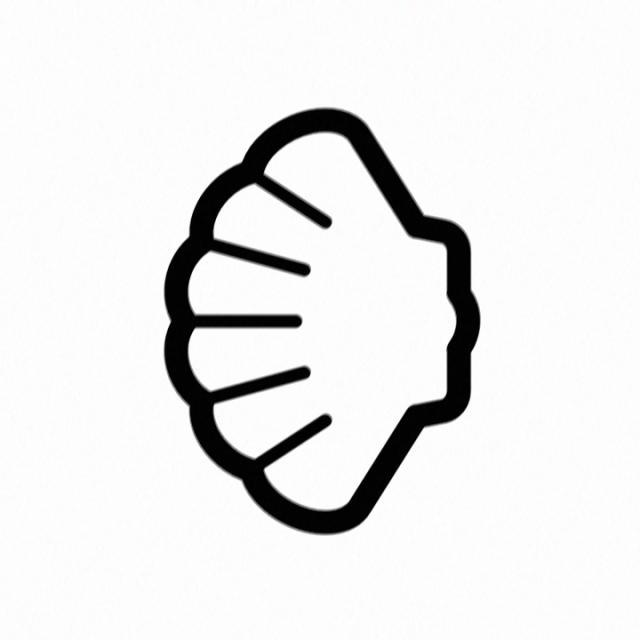shell: (152, 98, 488, 553)
